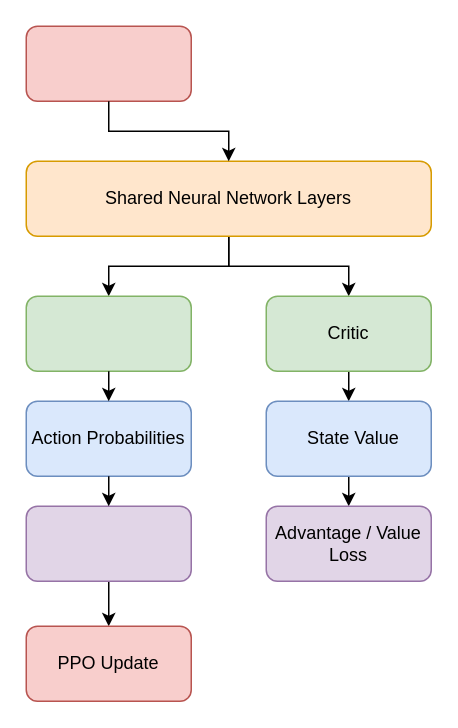
Image size: 458x728. Some labels were removed from this diagram. Each missing label, with the centre of its shape:
Actor: the point at 108,333
Selected Action: the point at 108,543
State: the point at 108,63
